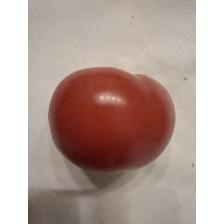Tomate: (46, 65, 180, 176)
